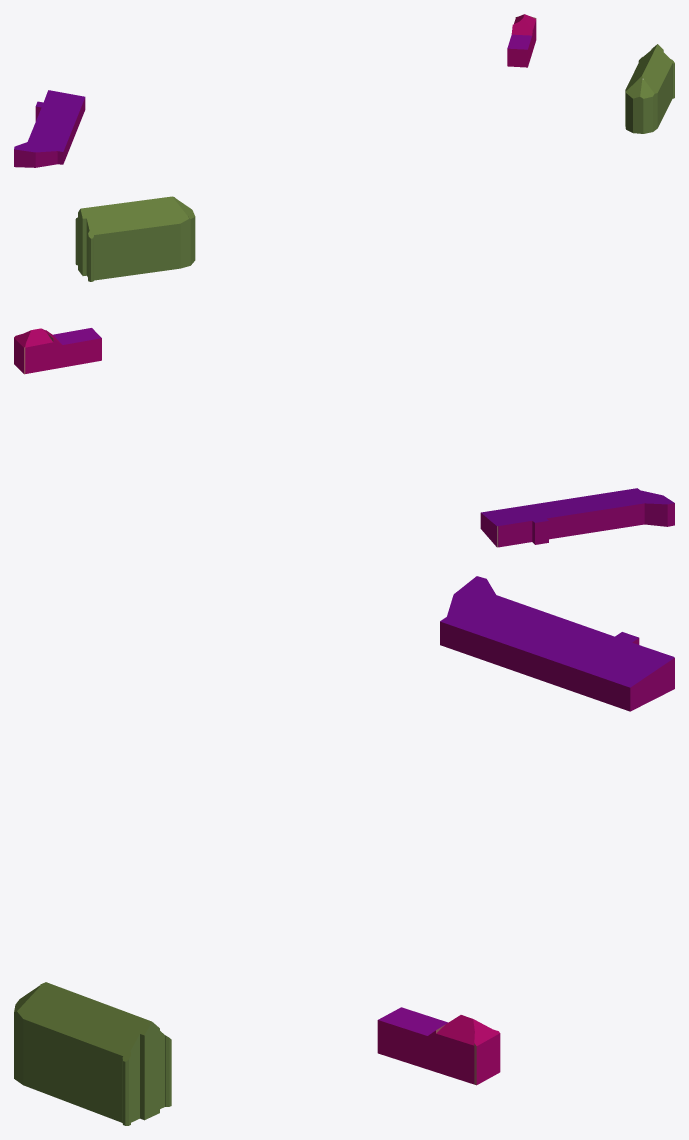
File: buildings_3_13.glb
3 renders of one model, top to bottom at view 1: azimuth 30°, elevation 25°; view 2: azimuth 150°, elevation 25°; view 3: azimuth 270°, elevation 25°, orthographic. The views are drawn at different scales.
Visible parts, largest first — view 1: buildings_3_13; view 2: buildings_3_13; view 3: buildings_3_13.
Boxes of the visible parts, x1=… form: buildings_3_13: x1=14, y1=14, x2=674, y2=167; buildings_3_13: x1=14, y1=196, x2=674, y2=547; buildings_3_13: x1=14, y1=576, x2=674, y2=1125.
Bounding box in the file's own units: 158 × 13.56 × 85.36.
